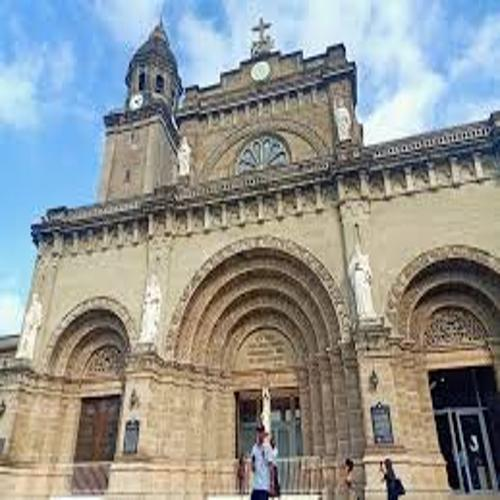Manila Cathedral Church: (11, 11, 500, 480)
